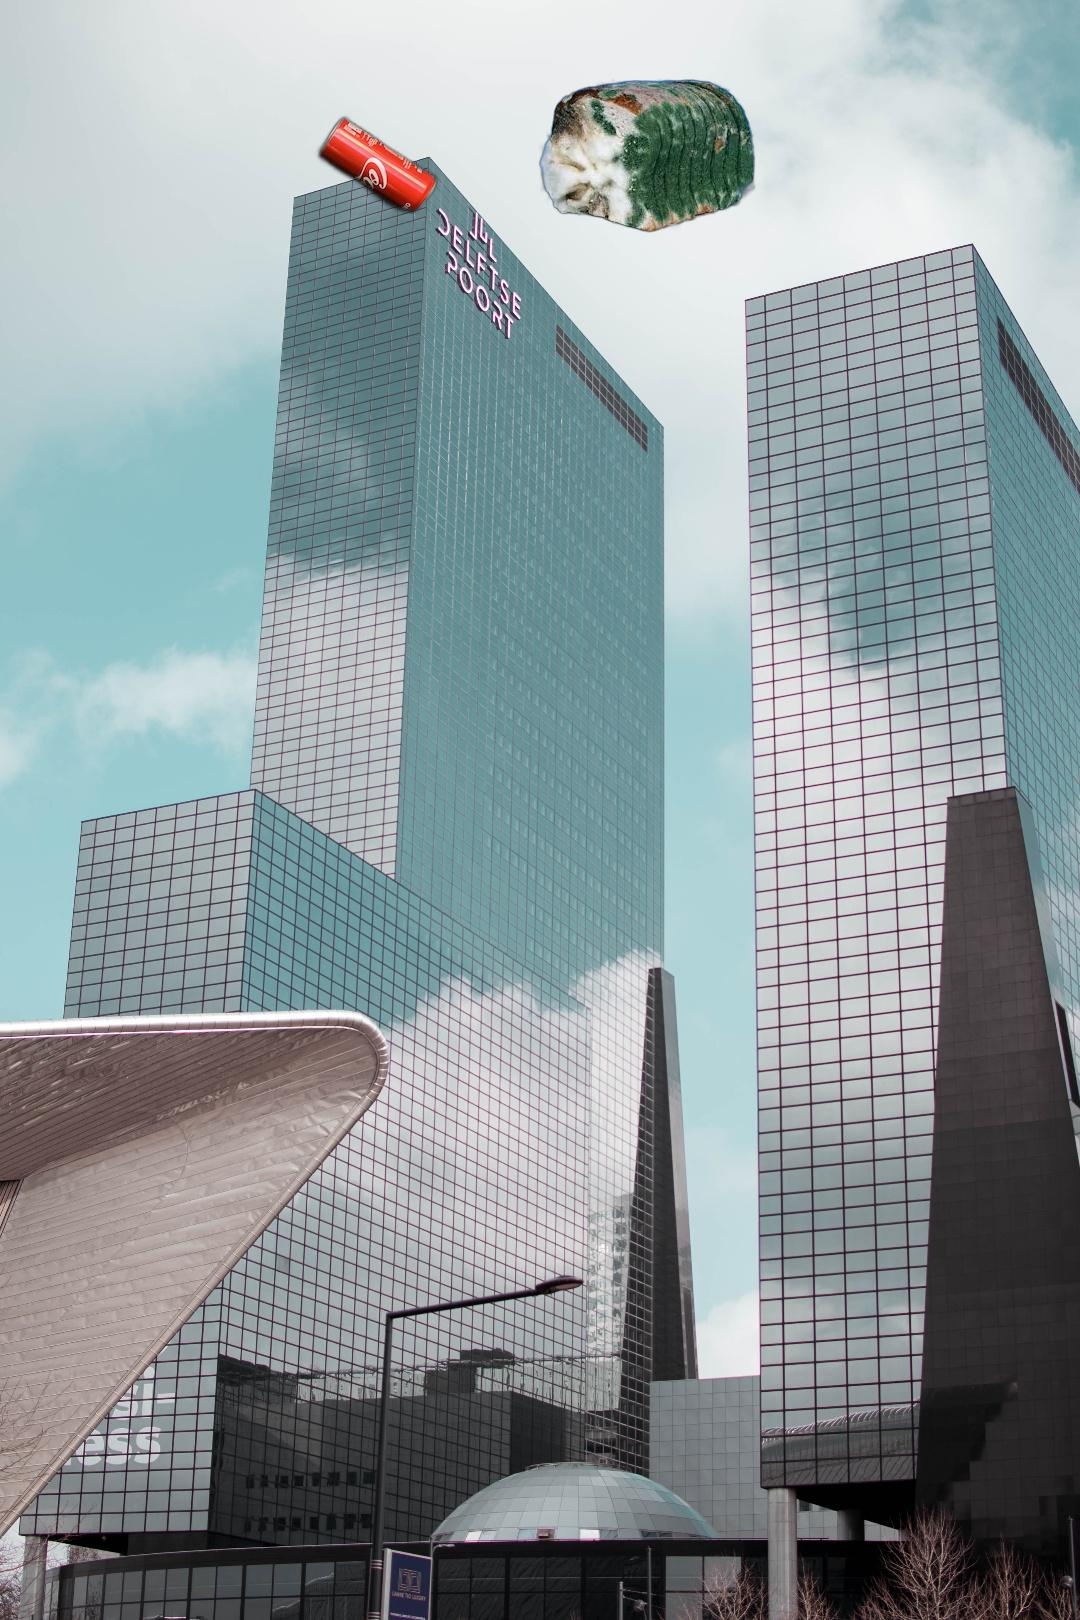biological: (538, 77, 761, 235)
metal-cans: (49, 111, 441, 540)
